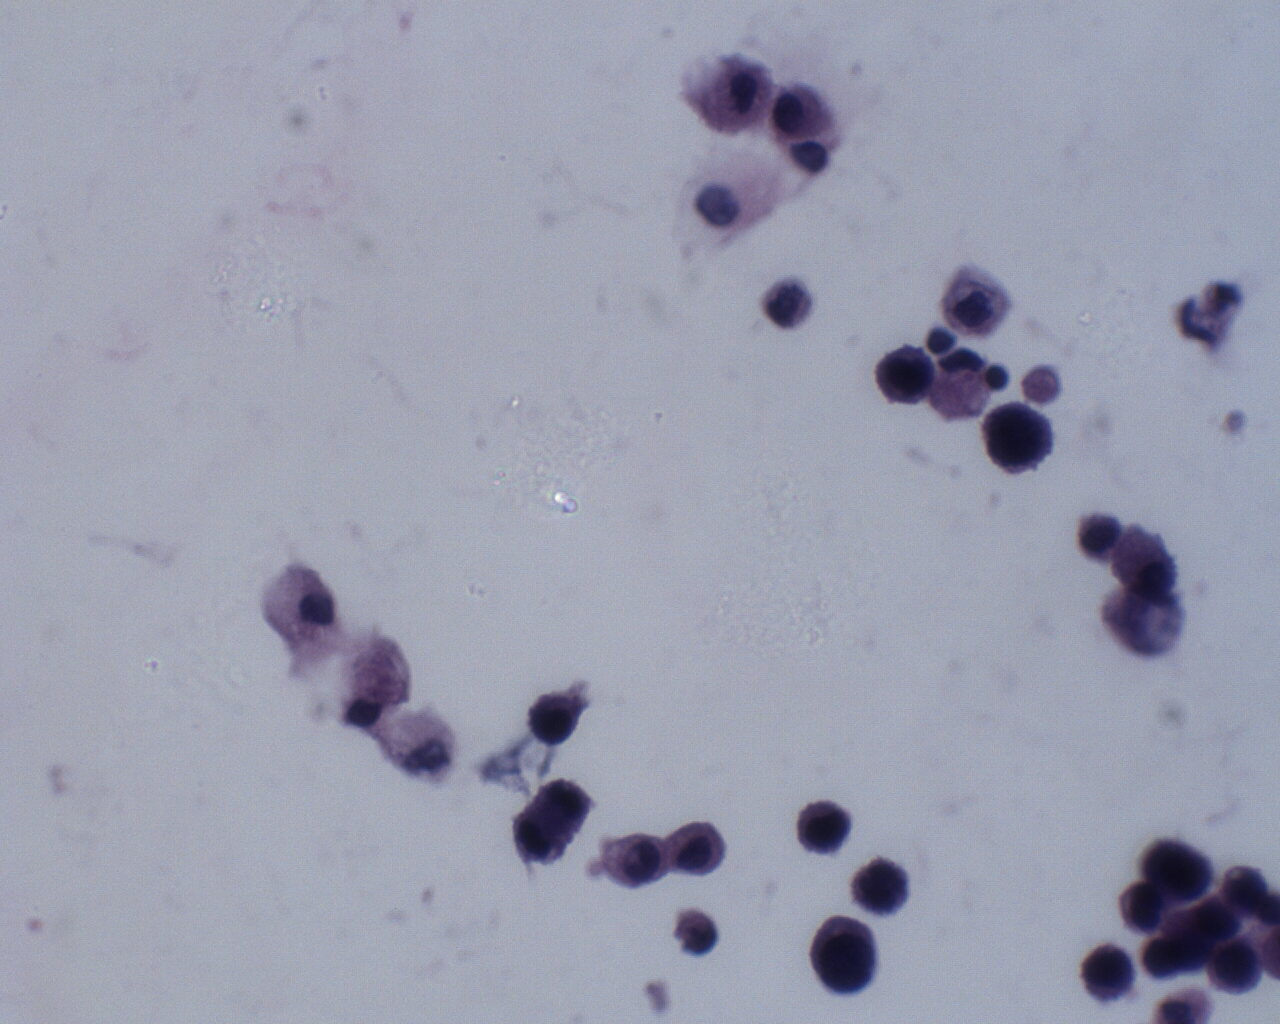ab: (806, 913, 880, 997), (978, 398, 1055, 475), (1135, 831, 1216, 903), (876, 342, 936, 406), (850, 855, 910, 918), (1078, 946, 1138, 1007), (1208, 935, 1265, 998), (797, 797, 851, 857), (527, 692, 583, 746)
histo: (932, 348, 988, 422)
meso: (665, 817, 729, 882)
